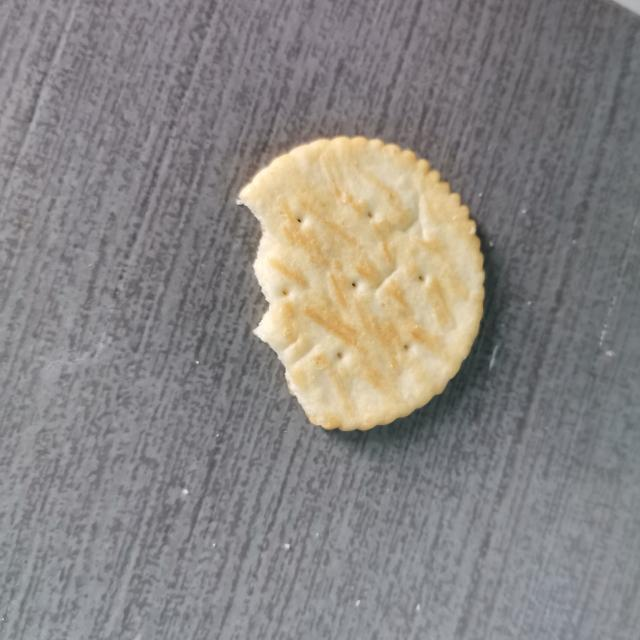Broken: (235, 134, 486, 433)
